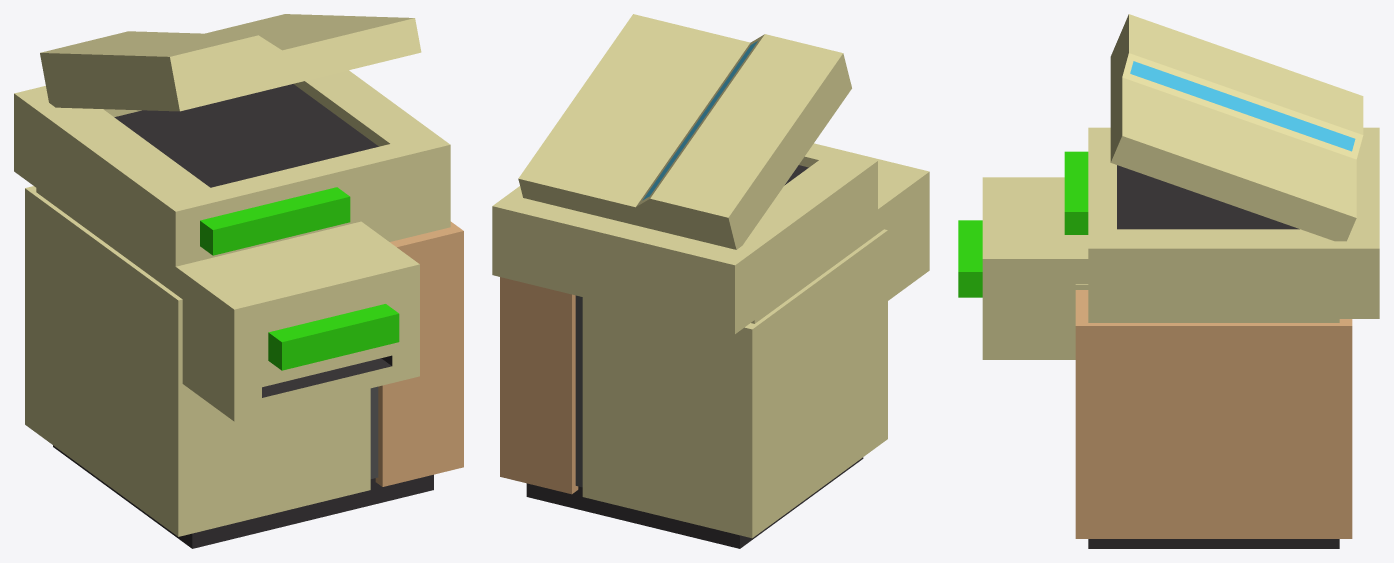
Rendered from Printer.fbx.
3 renders of one model, left to right at view 1: azimuth 30°, elevation 25°; view 2: azimuth 150°, elevation 25°; view 3: azimuth 270°, elevation 25°, orthographic. The views are drawn at different scales.
Visible parts, largest first — view 1: Cube.231; view 2: Cube.231; view 3: Cube.231.
Part boxes in pixels (x1,y1,x2,y2): Cube.231: (14,14,463,548); Cube.231: (492,14,929,548); Cube.231: (958,14,1379,548).
Size of the model in its own units: 375 by 597 by 532.
